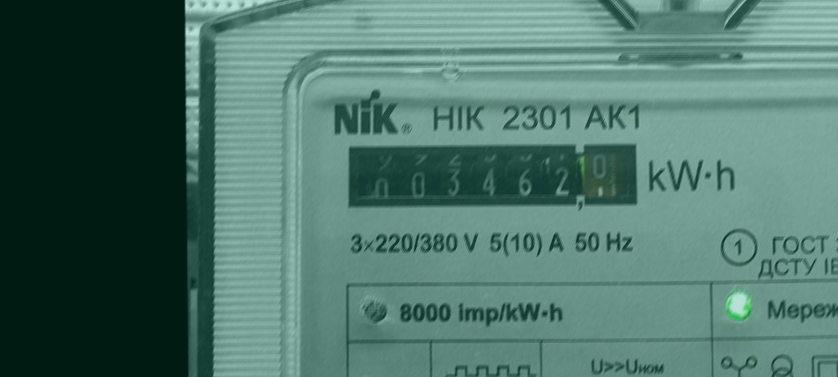0: (409, 169, 427, 198), (591, 153, 608, 181), (371, 175, 390, 199)
2: (553, 165, 571, 197)
3: (444, 167, 462, 199)
4: (481, 166, 498, 198)
6: (515, 165, 535, 199)
9: (374, 153, 394, 173)
screen: (336, 132, 649, 226)
